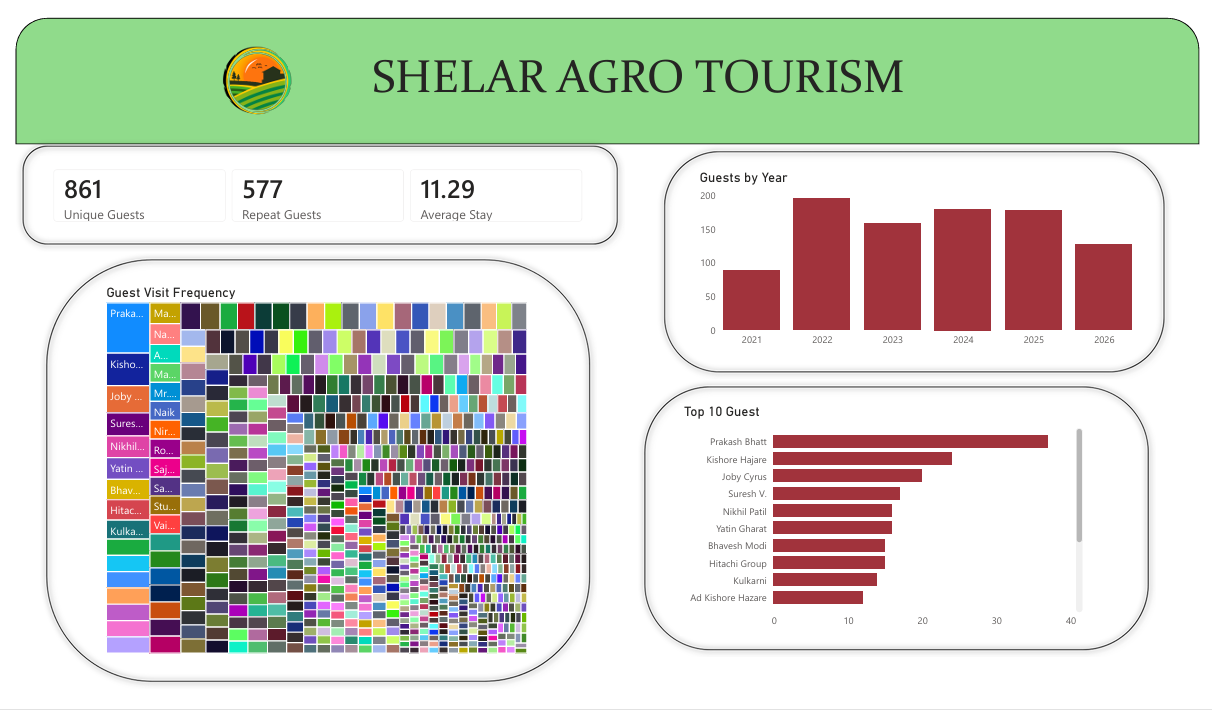

Layout of this report page (visuals, bound fields, positions):
{"tool":"powerbi","page":{"name":"Guest Analysis","canvas":[1500,850],"ordinal":2},"visuals":[{"type":"shape","box":[0,0,1499.9,160.2],"z":0},{"type":"textbox","box":[332,33.2,913.8,93.8],"z":1000},{"type":"image","box":[216.5,7.2,174.7,145.8],"z":2000},{"type":"shape","box":[0,152.8,771.9,143.1],"z":3000},{"type":"shape","box":[788.3,458.3,656.7,351.7],"z":4000},{"type":"cardVisual","fields":{"Data":["hotelbookings booking.Unique Guests","hotelbookings booking.Repeat Guests","hotelbookings booking.Average Stay"]},"box":[30.6,175.3,705.9,99.7],"z":5000},{"type":"clusteredBarChart","title":"Top 10 Guest","fields":{"Category":["hotelbookings booking.guest_name"],"Y":["hotelbookings booking.Booking Count"]},"box":[841.7,488.3,515,293.3],"z":6000},{"type":"shape","box":[30,296.7,706.7,553.3],"z":7000},{"type":"treemap","title":"Guest Visit Frequency","fields":{"Values":["hotelbookings booking.Booking Count"],"Group":["hotelbookings booking.guest_name"]},"box":[110,336.7,543.3,473.3],"z":8000},{"type":"shape","box":[813.3,160,651.7,298.3],"z":9000},{"type":"columnChart","title":"Guests by Year","fields":{"Category":["hotelbookings booking.year"],"Y":["hotelbookings booking.Unique Guests"]},"box":[862,192,558,234],"z":10000}]}

Visuals, with their boxes on the page's 1500x850 design canvas (x1, y1, x2, y2). These are canvas units, not pixel positions in the 1212x710 screenshot, which may show the page scaled, cropped or inside an application window:
shape: <region>0, 0, 1500, 160</region>
textbox: <region>332, 33, 1246, 127</region>
image: <region>216, 7, 391, 153</region>
shape: <region>0, 153, 772, 296</region>
shape: <region>788, 458, 1445, 810</region>
cardVisual - hotelbookings booking.Unique Guests x hotelbookings booking.Repeat Guests: <region>31, 175, 736, 275</region>
"Top 10 Guest" clusteredBarChart: <region>842, 488, 1357, 782</region>
shape: <region>30, 297, 737, 850</region>
"Guest Visit Frequency" treemap: <region>110, 337, 653, 810</region>
shape: <region>813, 160, 1465, 458</region>
"Guests by Year" columnChart: <region>862, 192, 1420, 426</region>
